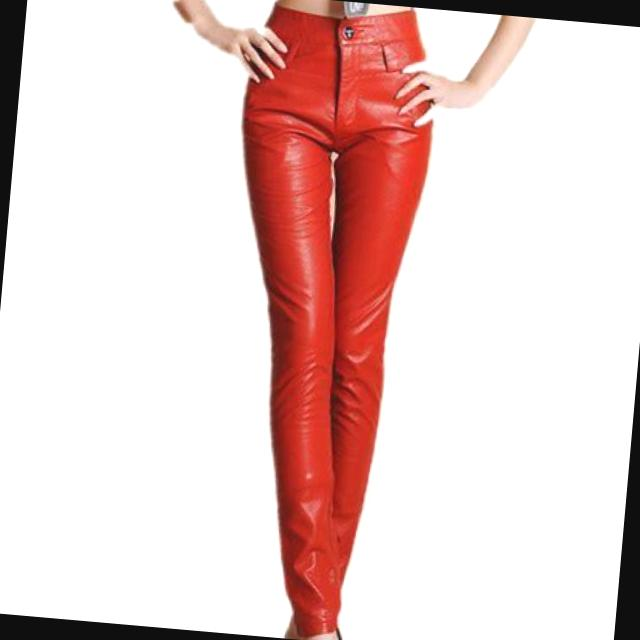pants: (193, 0, 442, 640)
